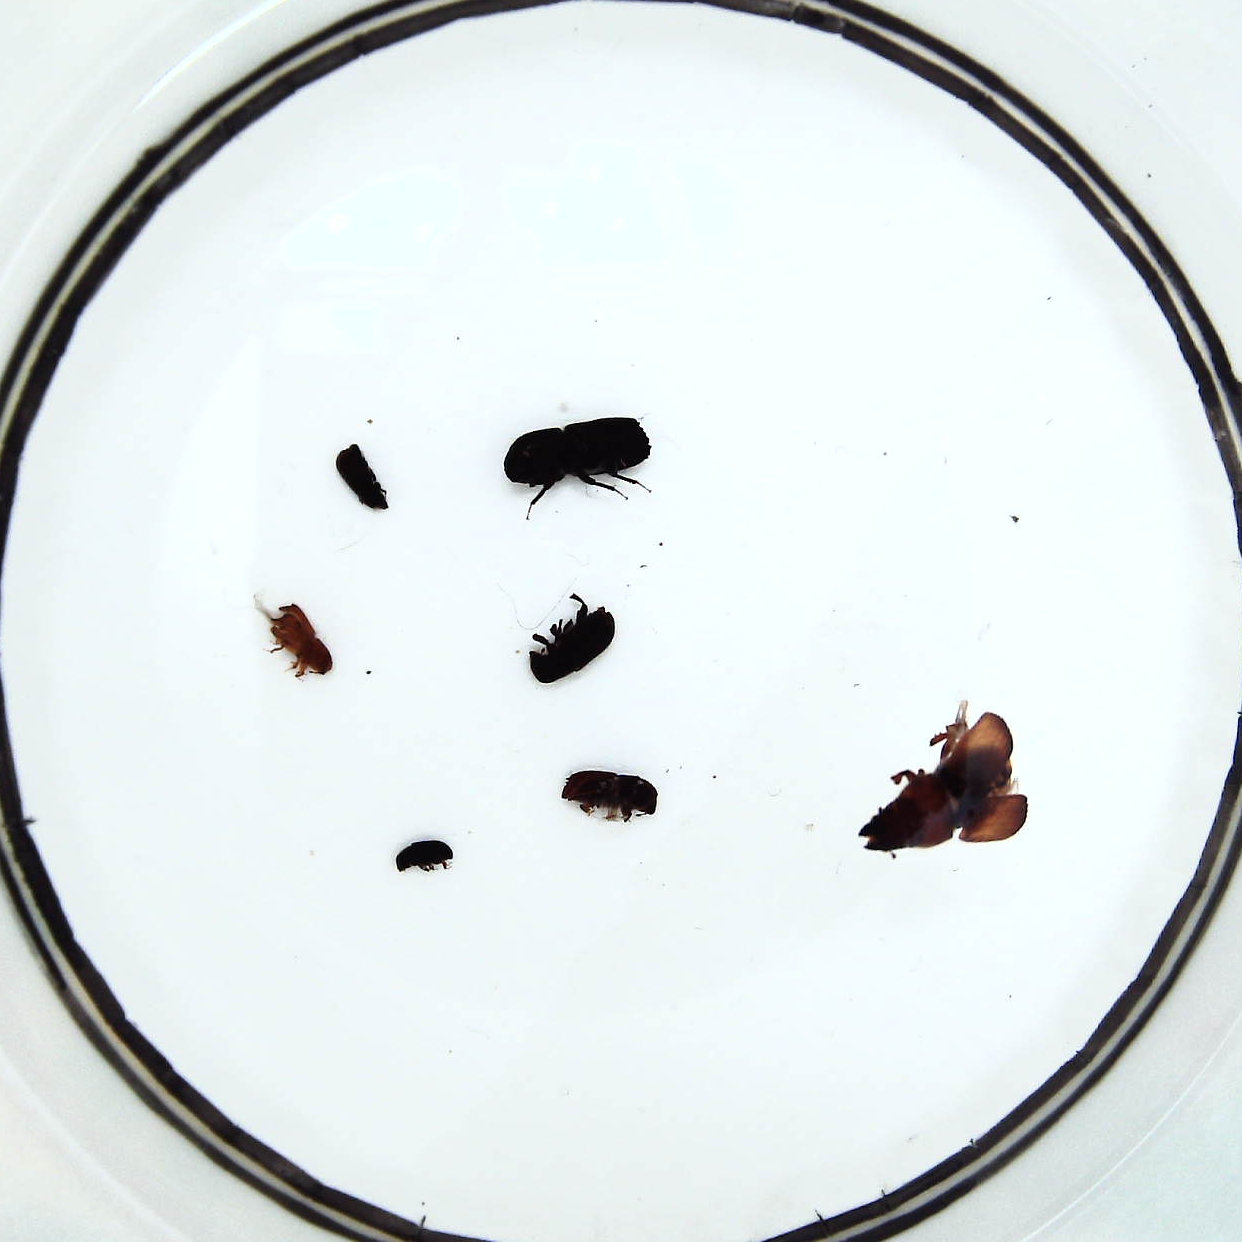Boerner: (506, 415, 651, 500)
Leconte: (860, 712, 1030, 854)
Linnaeus: (528, 606, 615, 684)
acuminatus: (267, 601, 334, 679)
armandi: (564, 767, 659, 820)
coleoptera: (334, 442, 387, 511), (395, 841, 454, 872)
